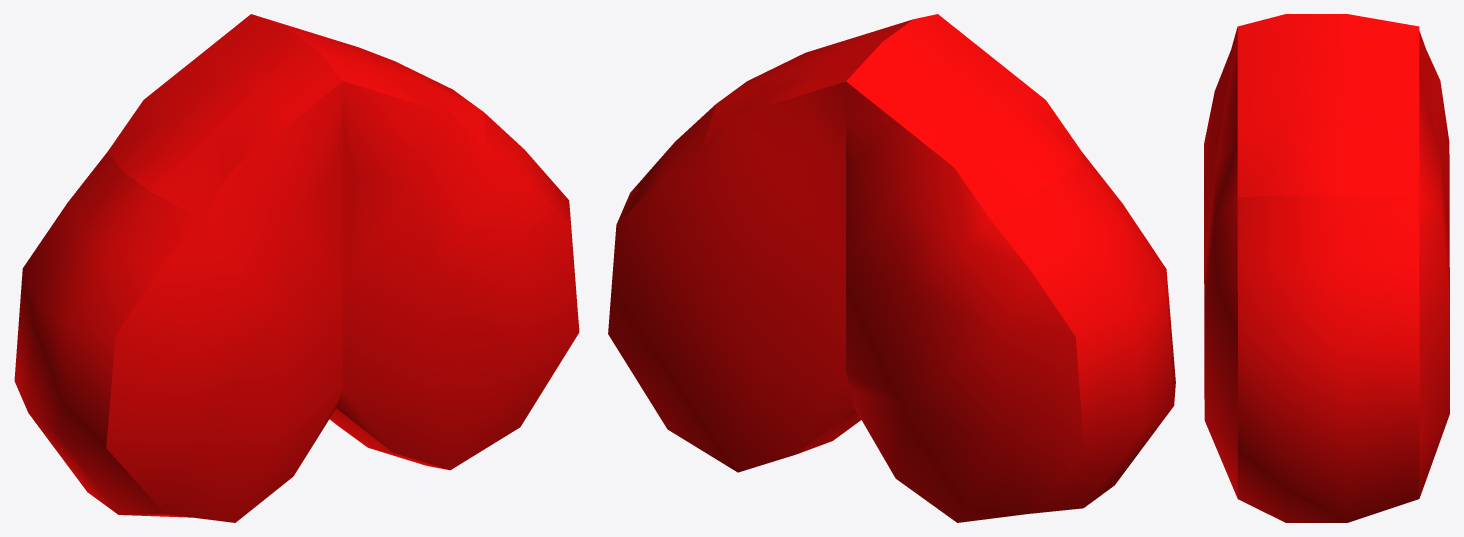
File: Herz pulsierend.FBX
3 views of the same model, side by side, from view 1: azimuth 30°, elevation 25°; view 2: azimuth 150°, elevation 25°; view 3: azimuth 270°, elevation 25° (orthographic).
Visible parts, largest first — view 1: Box002; view 2: Box002; view 3: Box002.
Boxes of the visible parts, x1,y1,x2,y2 form: Box002: [14, 14, 579, 522]; Box002: [608, 14, 1175, 522]; Box002: [1204, 14, 1449, 522].
Bounding box in the file's own units: 81.73 × 66.49 × 33.83.
